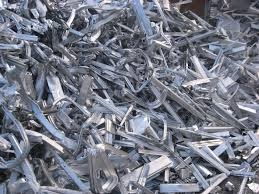metal: (1, 6, 41, 104), (124, 105, 193, 161), (182, 49, 246, 109), (4, 128, 53, 194), (81, 140, 122, 194), (116, 78, 175, 114), (45, 85, 99, 121), (156, 179, 202, 194)
